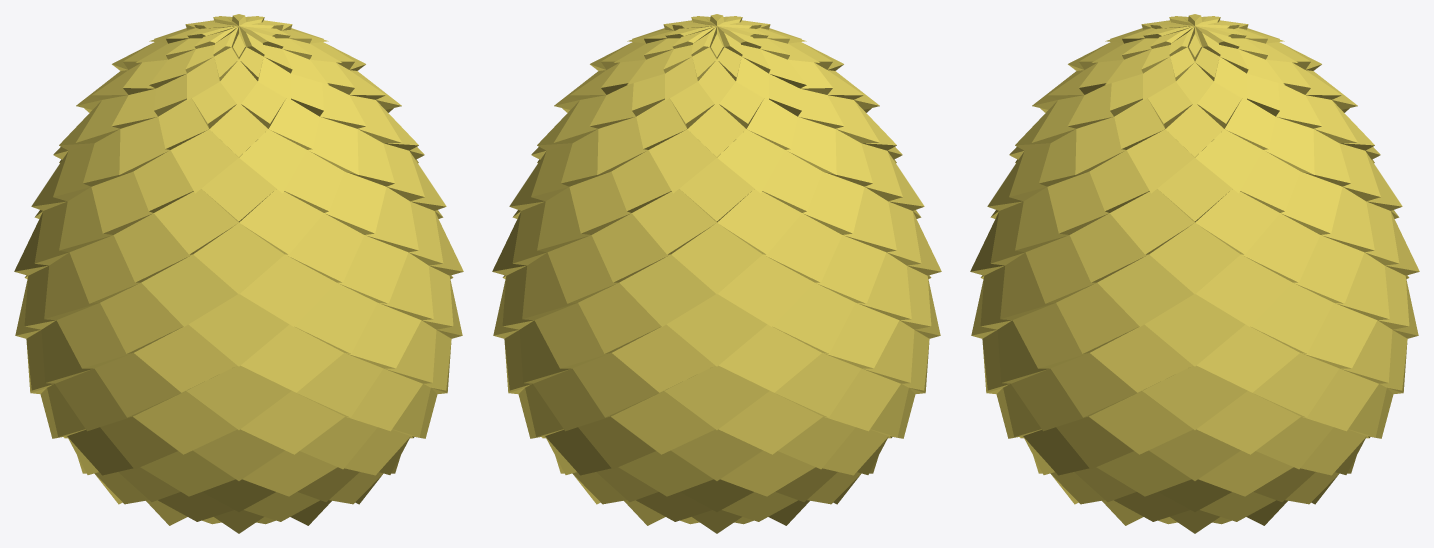
Rendered from drgn egg.fbx.
The picture shows the model from 3 angles, left to right: view 1: azimuth 30°, elevation 25°; view 2: azimuth 150°, elevation 25°; view 3: azimuth 270°, elevation 25°; orthographic projection.
Parts seen in each view (by area): view 1: pSphere5; view 2: pSphere5; view 3: pSphere5.
Boxes of the visible parts, x1,y1,x2,y2 form: pSphere5: (14, 14, 463, 533); pSphere5: (492, 14, 941, 533); pSphere5: (970, 14, 1419, 533).
Size of the model in its own units: 5.92 by 6.88 by 5.92.
